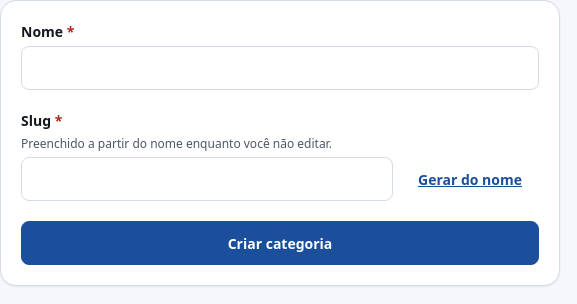
Test: CategoryForm › stops overwriting the slug after a manual edit
This screenshot has width=577, height=304.
Type "Física" into the field labelled "Nome *".
click(280, 68); type("Física")  # box left=21, top=46, right=539, bottom=90
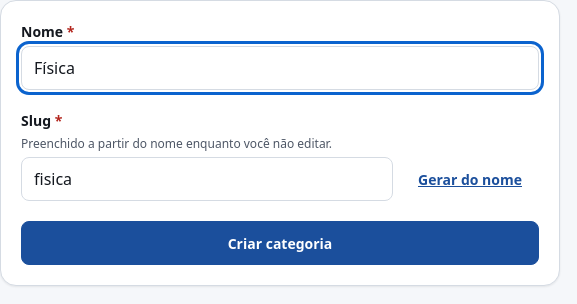
Expected: the field labelled "Slug *" holds "fisica"
Replace the text in the field labelled "Slug *" with "fisica-2027" at (207, 179), box left=21, top=157, right=393, bottom=201
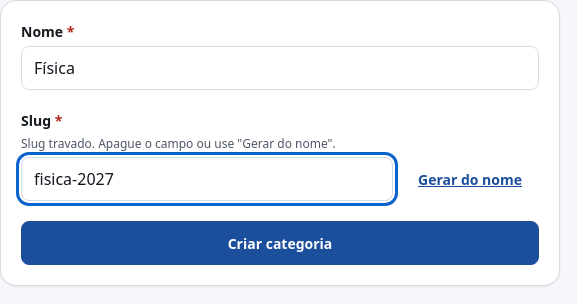
Type " Moderna" into the field labelled "Nome *".
click(280, 68); type(" Moderna")  # box left=21, top=46, right=539, bottom=90
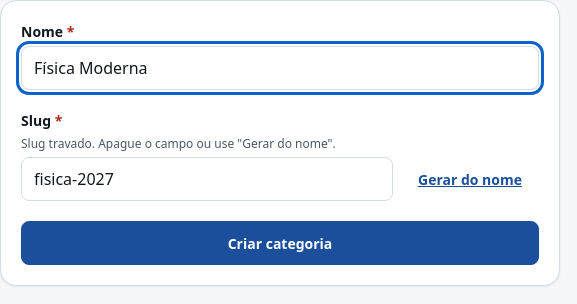
Expected: the field labelled "Nome *" holds "Física Moderna", left=21, top=46, right=539, bottom=90
